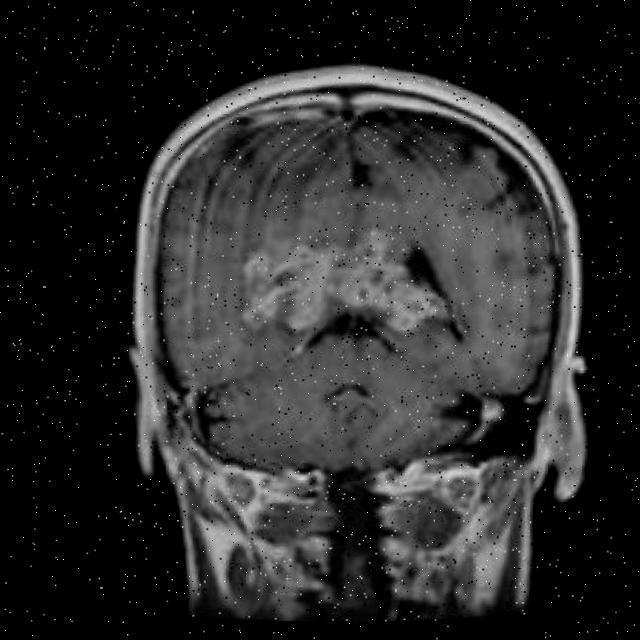EMCI: (206, 232, 328, 372), (346, 252, 450, 369)
